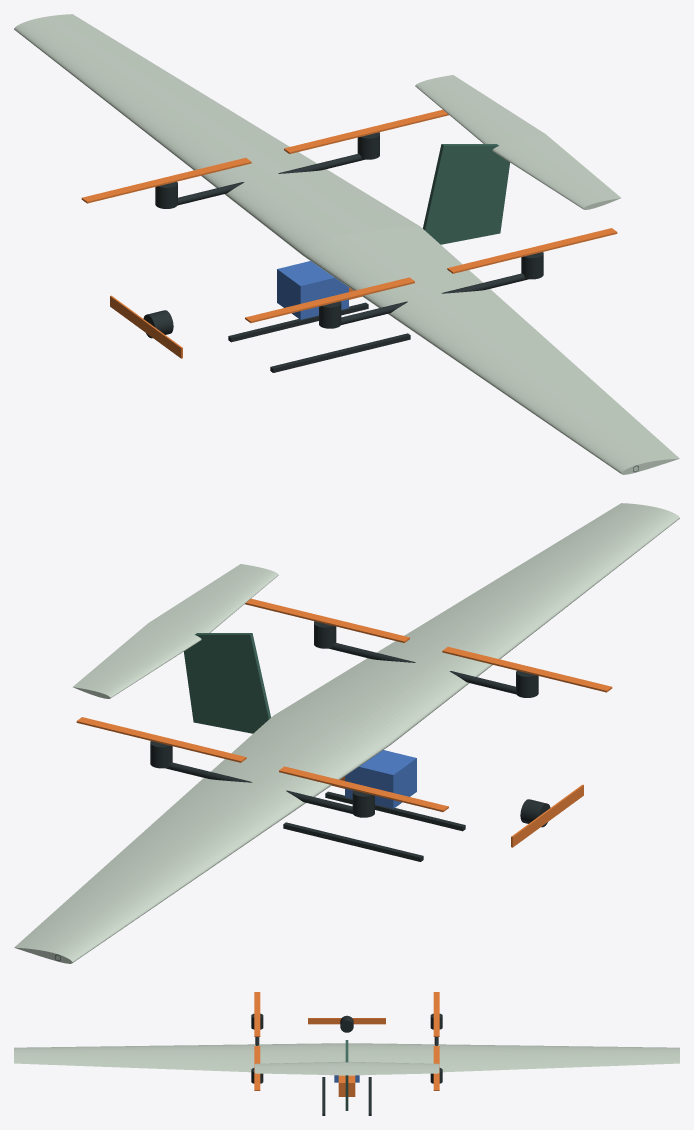
The model's file is 06-internal.glb.
The picture shows the model from 3 angles, top to bottom: view 1: azimuth 30°, elevation 25°; view 2: azimuth 150°, elevation 25°; view 3: azimuth 270°, elevation 25°; orthographic projection. The views are drawn at different scales.
Visible parts, largest first — view 1: wing-1, wing1, fin, tail-1, tail1, payload, prop_-1_700.0, prop_1_200.0, prop_-1_200.0, prop_1_700.0, skid-1, boom-1 (+3 smaller); view 2: wing1, wing-1, fin, tail1, tail-1, payload, prop_1_700.0, prop_-1_200.0, prop_1_200.0, prop_-1_700.0, skid1, boom1 (+3 smaller); view 3: wing-1, wing1, tail-1, tail1, cruise_prop, battery, prop_-1_200.0, prop_1_200.0, prop_-1_700.0, prop_1_700.0, fin.
Boxes of the visible parts, x1,y1,x2,y2 form: wing-1: (303,226,679,474); wing1: (14,14,419,255); fin: (423,144,509,244); tail-1: (492,134,620,209); tail1: (415,75,544,144); payload: (277,261,348,319); prop_-1_700.0: (447,228,617,273); prop_1_200.0: (81,157,251,203); prop_-1_200.0: (245,277,414,322); prop_1_700.0: (284,109,448,153); skid-1: (270,333,410,372); boom-1: (341,273,528,324); wing1: (14,715,390,963); wing-1: (274,503,679,744); fin: (184,633,270,733); tail1: (73,623,201,698); tail-1: (149,564,278,633); payload: (345,750,416,808); prop_1_700.0: (76,717,246,762); prop_-1_200.0: (442,646,612,692); prop_1_200.0: (279,766,448,811); prop_-1_700.0: (245,598,409,642); skid1: (283,822,423,861); boom1: (165,762,352,813); wing-1: (14,1043,345,1075); wing1: (348,1043,679,1075); tail-1: (254,1061,346,1075); tail1: (347,1061,439,1075); cruise_prop: (308,1018,385,1024); battery: (338,1075,355,1096); prop_-1_200.0: (254,992,260,1036); prop_1_200.0: (433,992,439,1036); prop_-1_700.0: (254,1046,260,1090); prop_1_700.0: (433,1046,439,1090); fin: (345,1040,348,1110).
Bounding box in the file's own units: 989 × 390 × 2600.
